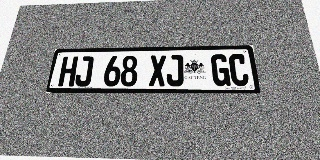6: (103, 56, 122, 86)
8: (120, 55, 138, 86)
C: (228, 54, 250, 86)
G: (211, 54, 231, 86)
H: (58, 56, 78, 86)
J: (74, 56, 94, 86), (166, 55, 184, 86)
X: (149, 55, 166, 86)
